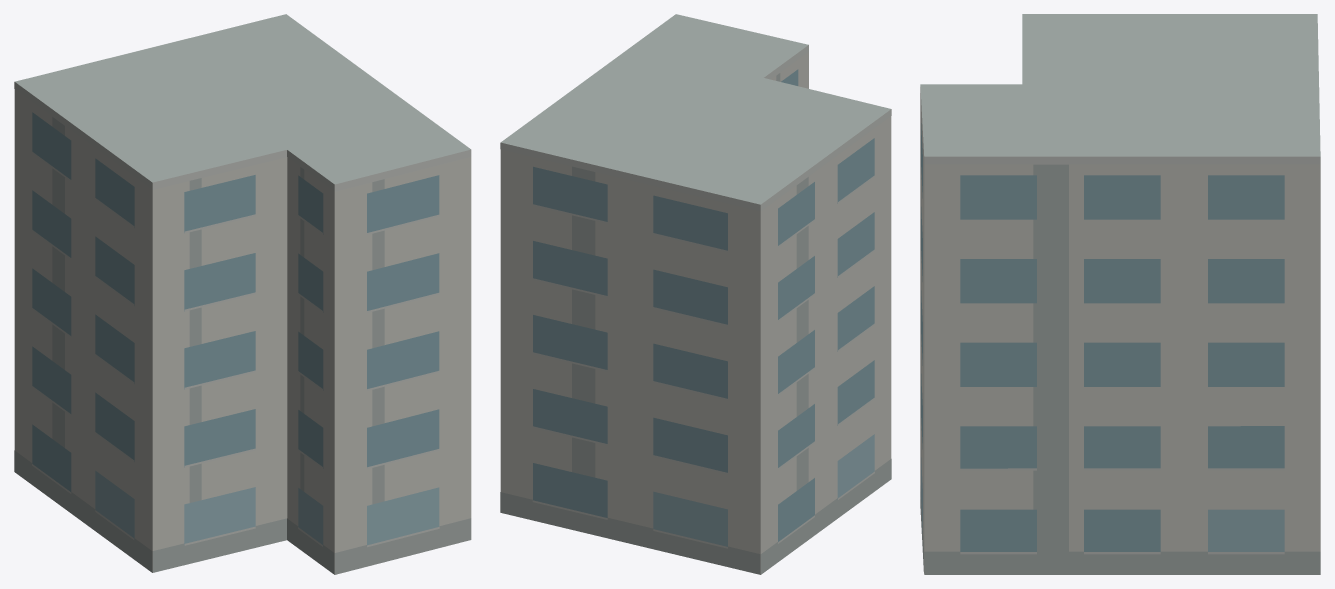
Rendered from survey-upis-32832425.glb.
3 renders of one model, left to right at view 1: azimuth 30°, elevation 25°; view 2: azimuth 150°, elevation 25°; view 3: azimuth 270°, elevation 25°, orthographic. The views are drawn at different scales.
Parts seen in each view (by area): view 1: survey-upis-32832425.tmp; view 2: survey-upis-32832425.tmp; view 3: survey-upis-32832425.tmp.
Part boxes in pixels (x1=…): survey-upis-32832425.tmp: x1=14, y1=14, x2=471, y2=574; survey-upis-32832425.tmp: x1=500, y1=14, x2=891, y2=574; survey-upis-32832425.tmp: x1=920, y1=14, x2=1320, y2=574.
Bounding box in the file's own units: 9.54 × 13 × 11.29.
